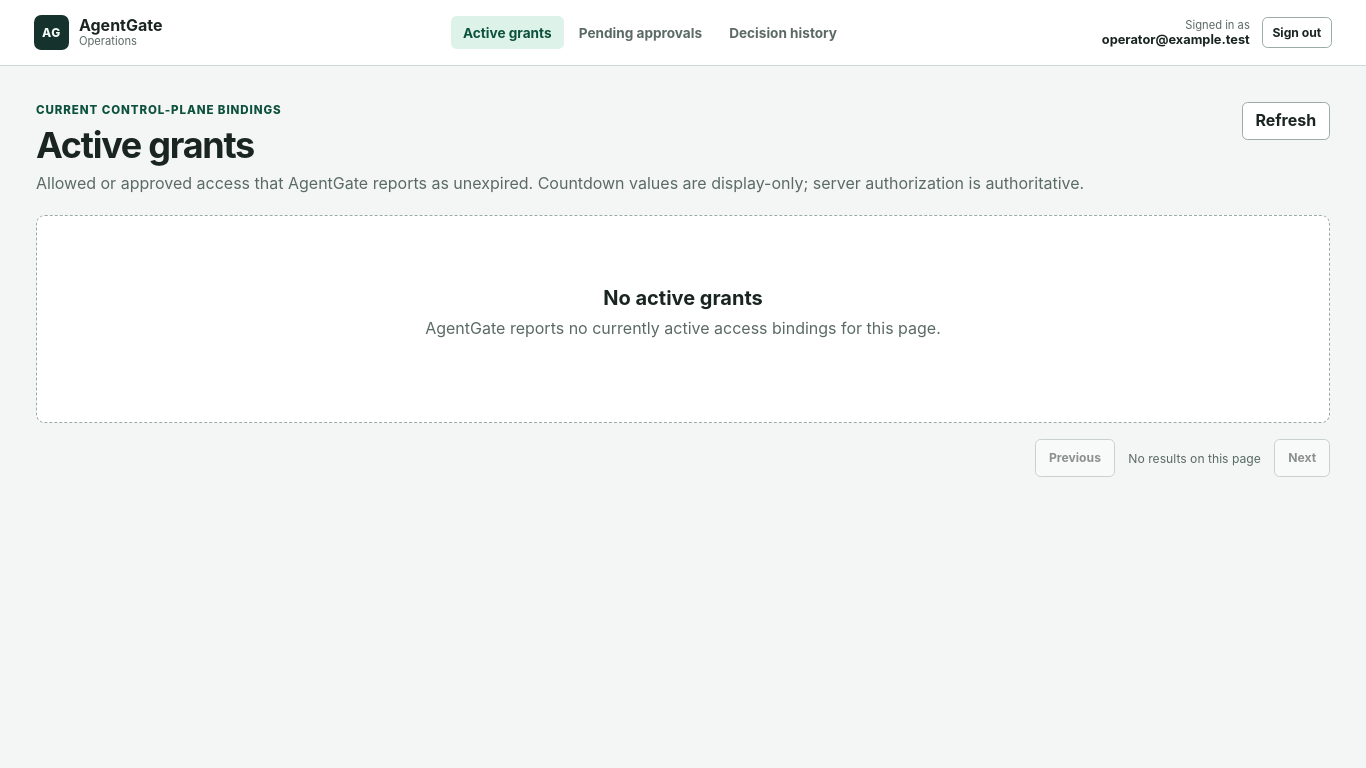
dashboard authentication states › logs out through the configured human provider
Click the button "Sign out".
click(1297, 32)  # box [1262,17,1332,48]
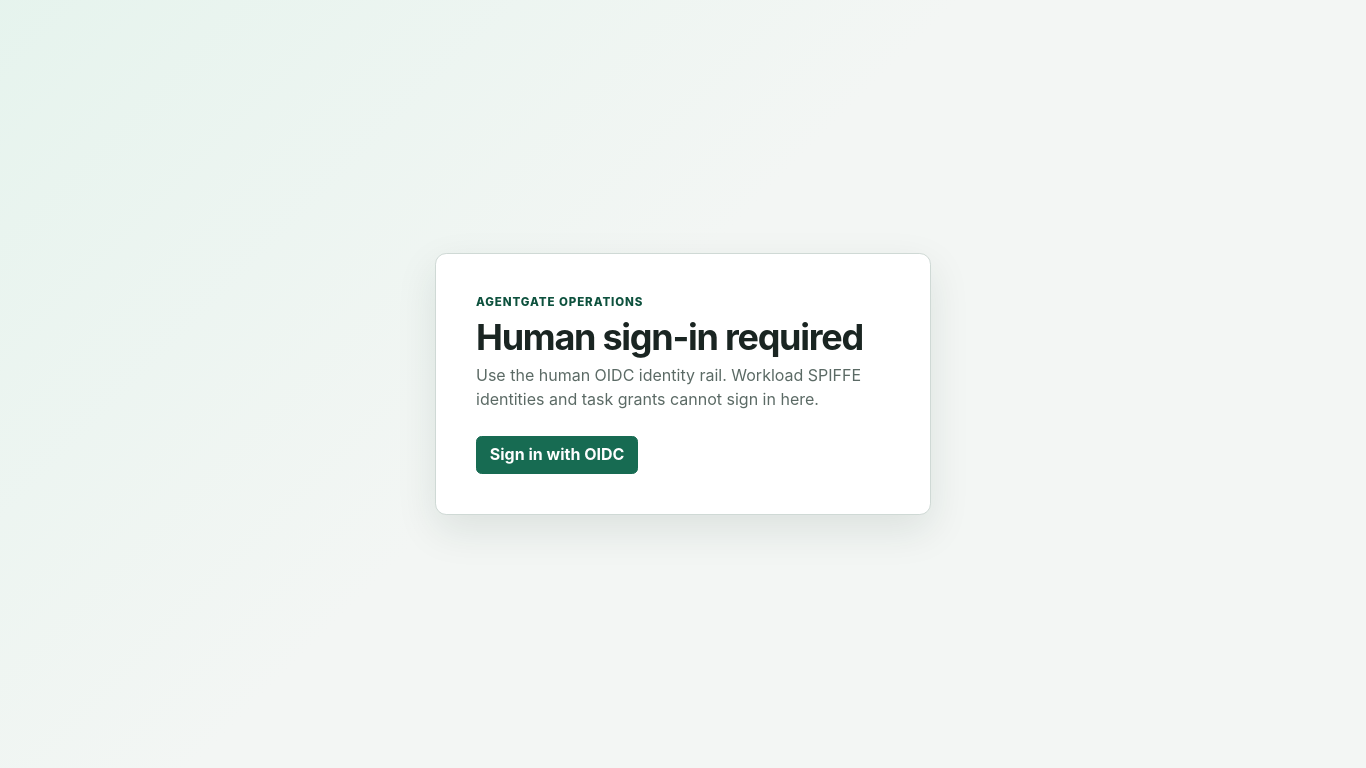
expect the heading "Human sign-in required" is shown: met, box [476,317,890,357]
